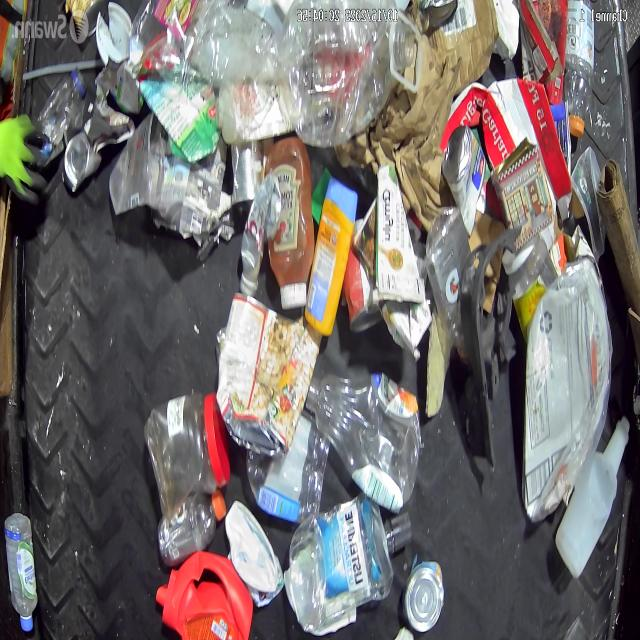can: (442, 124, 486, 239), (342, 216, 379, 334), (401, 558, 444, 634), (62, 130, 102, 193), (230, 140, 258, 212)
non_white_jug: (155, 549, 254, 640)
plastic_bottle: (288, 488, 412, 635), (306, 371, 422, 514), (157, 489, 226, 568), (32, 64, 86, 158), (3, 510, 38, 632), (564, 0, 594, 137)
